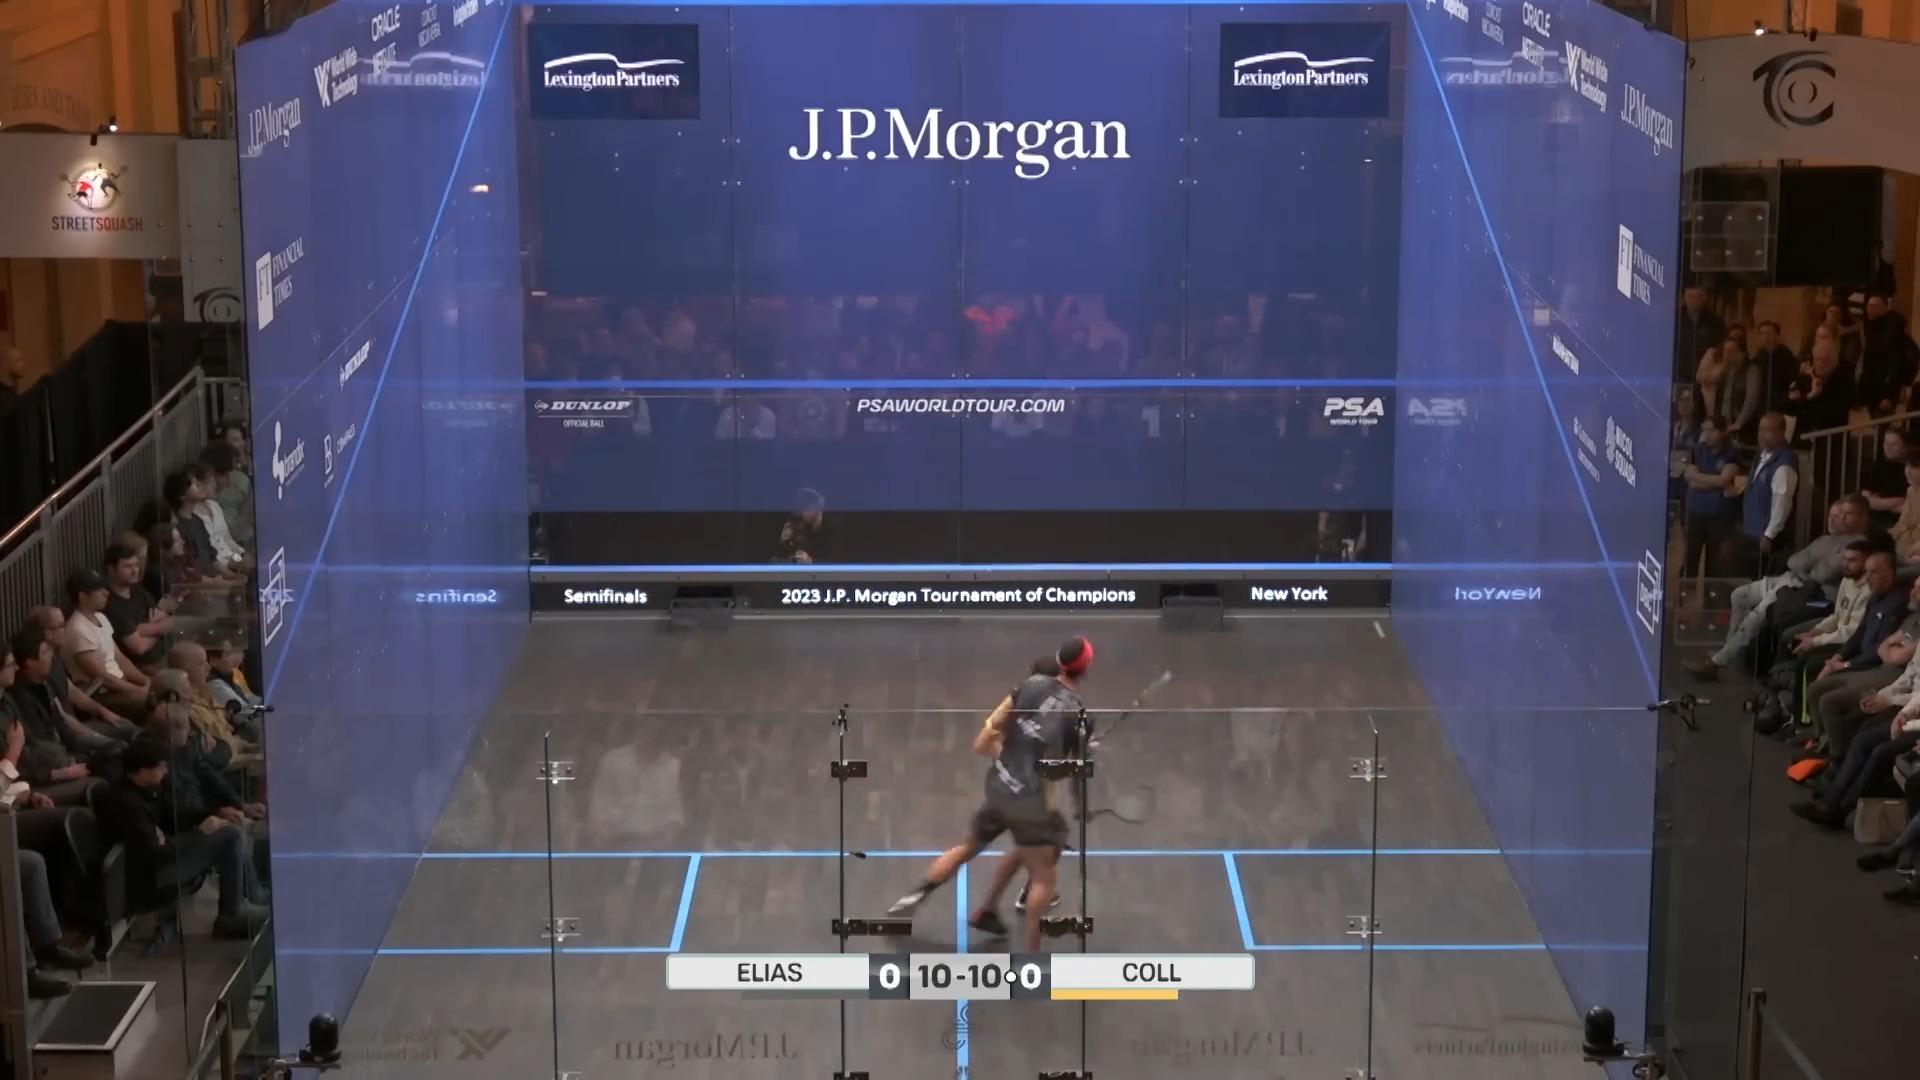Racket: (1088, 773, 1168, 831)
